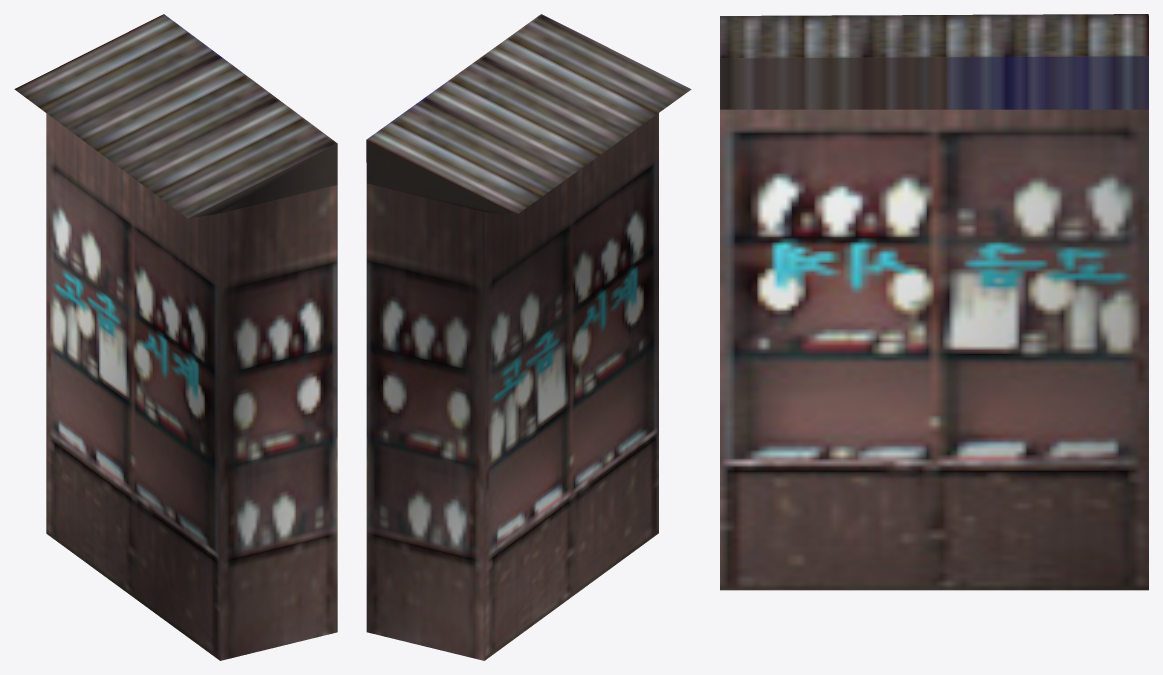
Rendered from sigye_window.FBX.
3 renders of one model, left to right at view 1: azimuth 30°, elevation 25°; view 2: azimuth 150°, elevation 25°; view 3: azimuth 270°, elevation 25°, orthographic. The views are drawn at different scales.
Parts seen in each view (by area): view 1: polySurface27; view 2: polySurface27; view 3: polySurface27.
Boxes of the visible parts, left/top/right/bottom form: polySurface27: left=14, top=14, right=337, bottom=660; polySurface27: left=366, top=14, right=691, bottom=660; polySurface27: left=720, top=14, right=1148, bottom=590.
Size of the model in its own units: 3.94 by 12.3 by 7.91.
Materials: 1 (1 with a texture image).
